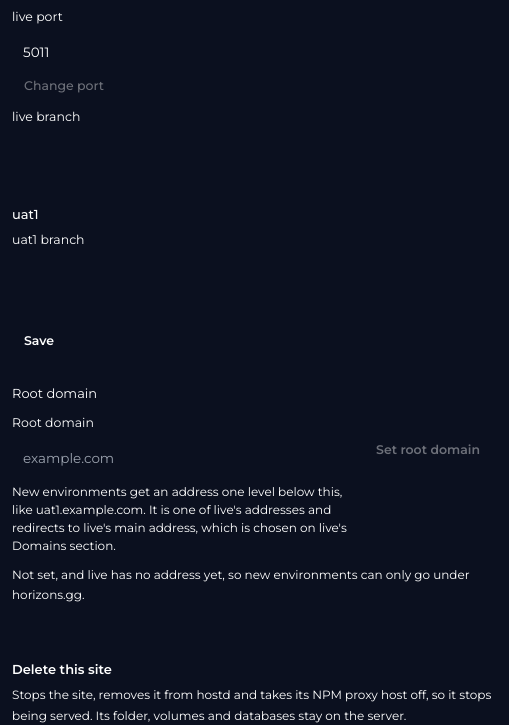
it: the root domain › saves the typed root domain, lowercased
(page scrolled)
Type "ArbysAuto.com" into the field labelled "Root domain" at (182, 458), box [12,439,352,477]
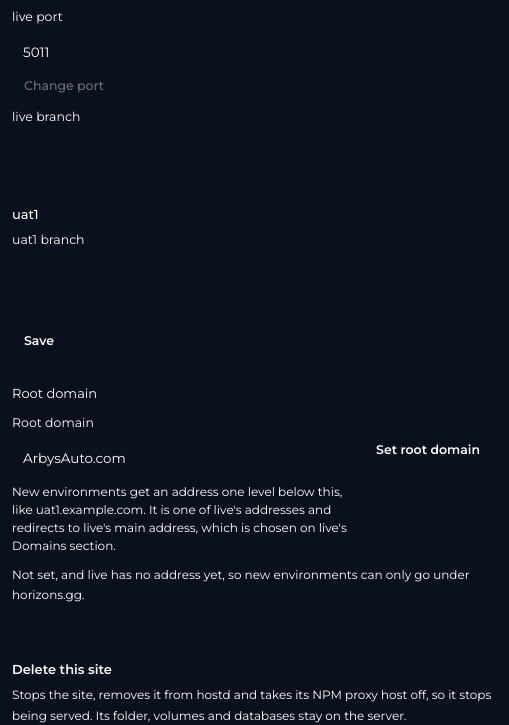
Click the button "Set root domain" at (428, 450), box [364,435,492,466]
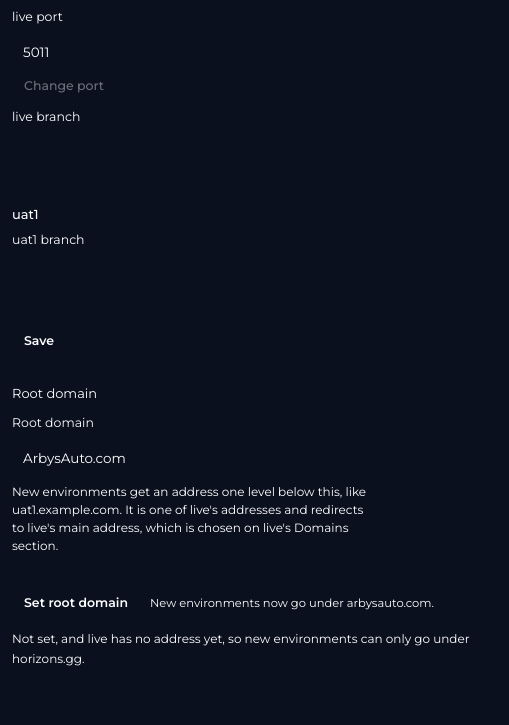
Now the text "New environments now go under arbysauto.com." is shown, box [150,595,434,612]
